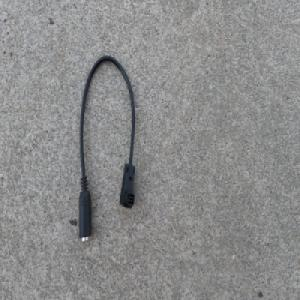Wire: (77, 53, 136, 245)
